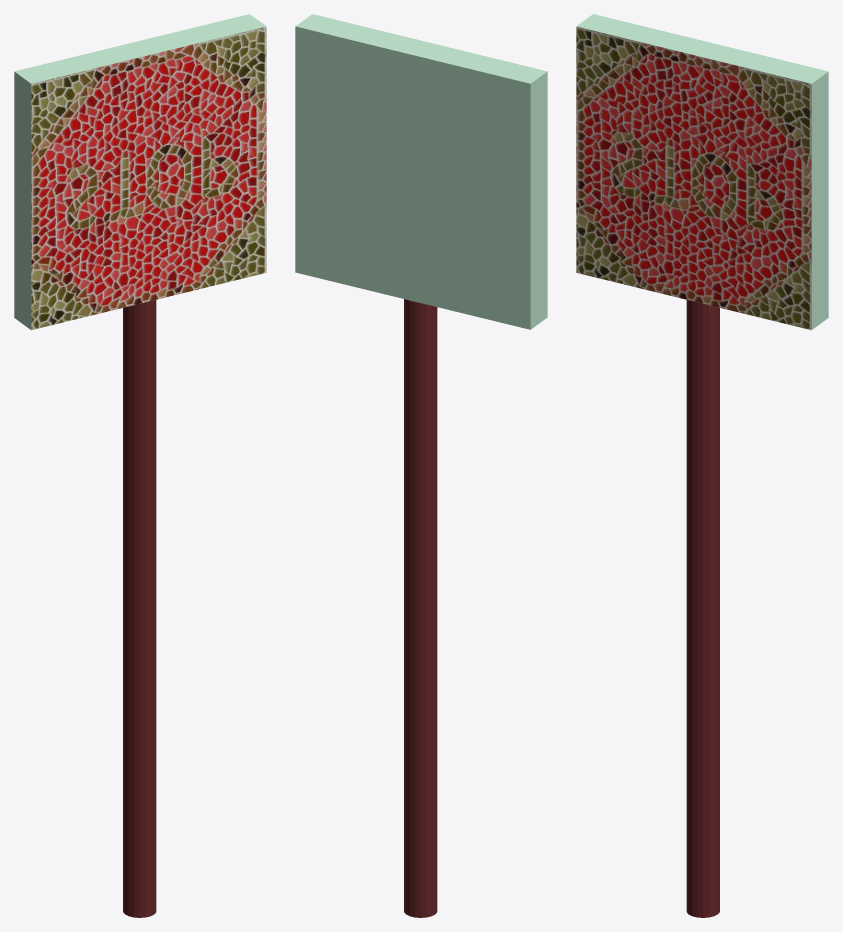
File: stop.dae
The picture shows the model from 3 angles, left to right: view 1: azimuth 30°, elevation 25°; view 2: azimuth 150°, elevation 25°; view 3: azimuth 330°, elevation 25°; orthographic projection.
Visible parts, largest first — view 1: BSD_Material_d_stop__14, CSD_Material_d_stop__37, BSD_Material_d_stop__15; view 2: BSD_Material_d_stop__15, CSD_Material_d_stop__37; view 3: BSD_Material_d_stop__14, CSD_Material_d_stop__37, BSD_Material_d_stop__15.
Boxes of the visible parts, x1,y1,x2,y2 form: BSD_Material_d_stop__14: (31, 26, 266, 329); CSD_Material_d_stop__37: (123, 300, 156, 917); BSD_Material_d_stop__15: (14, 14, 266, 329); BSD_Material_d_stop__15: (295, 14, 547, 329); CSD_Material_d_stop__37: (404, 299, 437, 917); BSD_Material_d_stop__14: (576, 26, 811, 329); CSD_Material_d_stop__37: (686, 300, 719, 917); BSD_Material_d_stop__15: (576, 14, 828, 329).
Size of the model in its own units: 1.57 by 0.2043 by 5.51.
